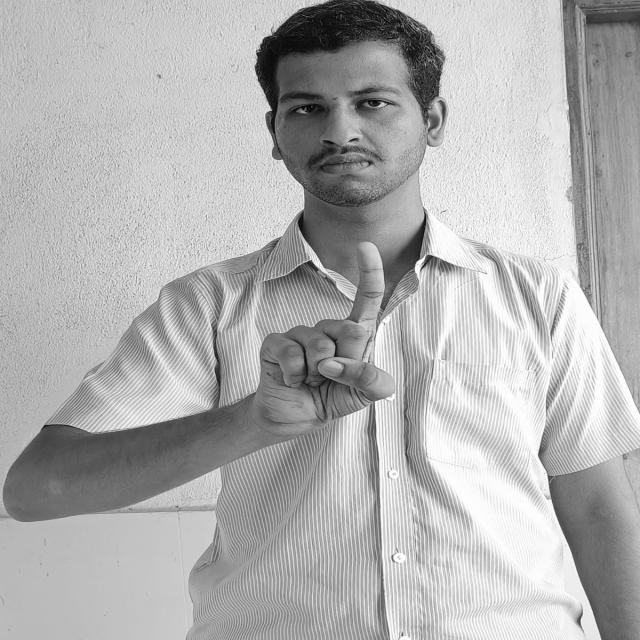Question: (262, 240, 401, 429)
